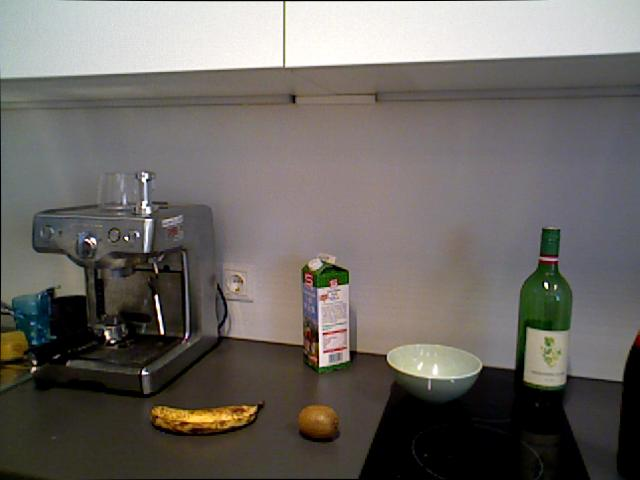bench: (513, 225, 573, 404), (299, 248, 355, 376), (616, 310, 640, 480)
bird: (385, 342, 483, 403)
handbag: (94, 167, 162, 215), (50, 291, 95, 347), (11, 293, 50, 348)
motorcycle: (149, 401, 261, 435)
